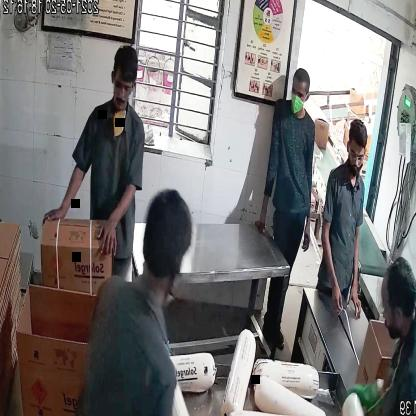goggles: (346, 146, 368, 166)
